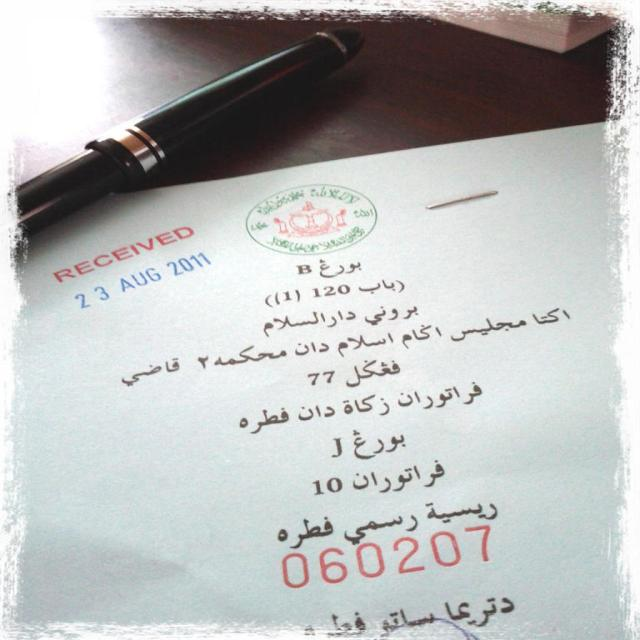pen: (0, 24, 366, 254)
